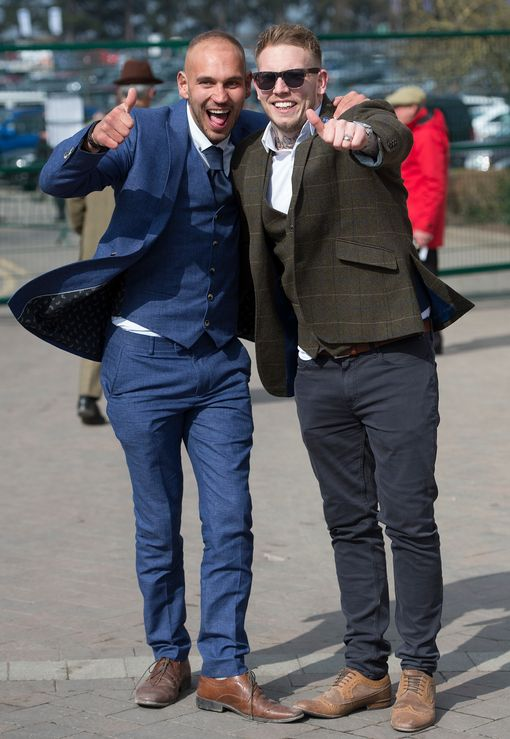Person: (7, 28, 255, 721), (246, 25, 474, 732)
